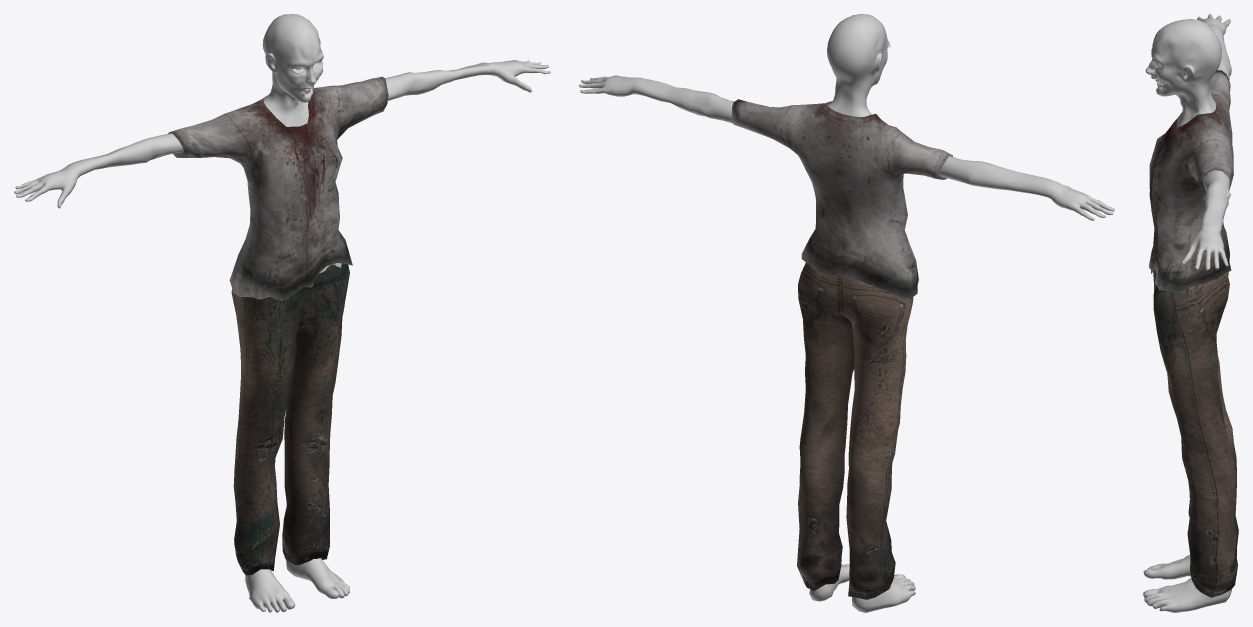
Rendered from zombie.obj.
The picture shows the model from 3 angles, left to right: view 1: azimuth 30°, elevation 25°; view 2: azimuth 150°, elevation 25°; view 3: azimuth 270°, elevation 25°; orthographic projection.
Visible parts, largest first — view 1: Object_2, Object_3, Object_5; view 2: Object_2, Object_3, Object_5; view 3: Object_2, Object_3, Object_5.
Part boxes in pixels (box(x1,y1,x2,y2)): Object_2: box(231, 263, 349, 575); Object_3: box(168, 76, 388, 300); Object_5: box(14, 14, 550, 612); Object_2: box(797, 262, 913, 599); Object_3: box(732, 99, 952, 297); Object_5: box(579, 14, 1114, 612); Object_2: box(1153, 270, 1238, 597); Object_3: box(1149, 70, 1233, 293); Object_5: box(1143, 14, 1231, 612).
Size of the model in its own units: 167 by 173 by 26.33.
